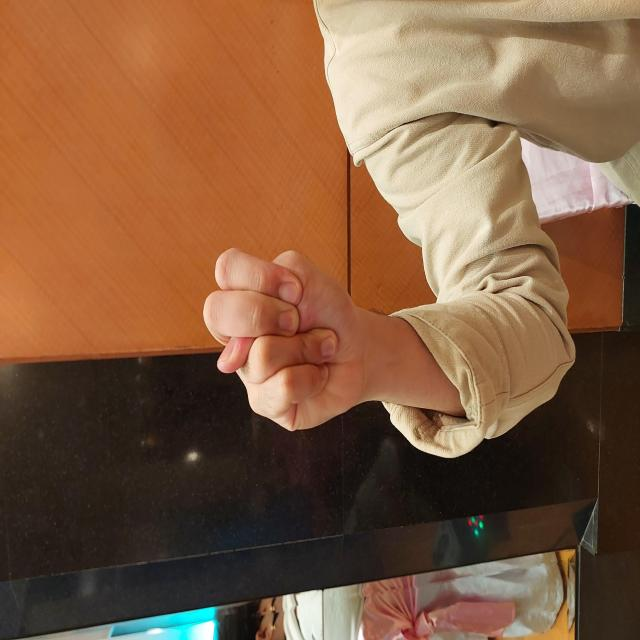N: (208, 202, 394, 367)
